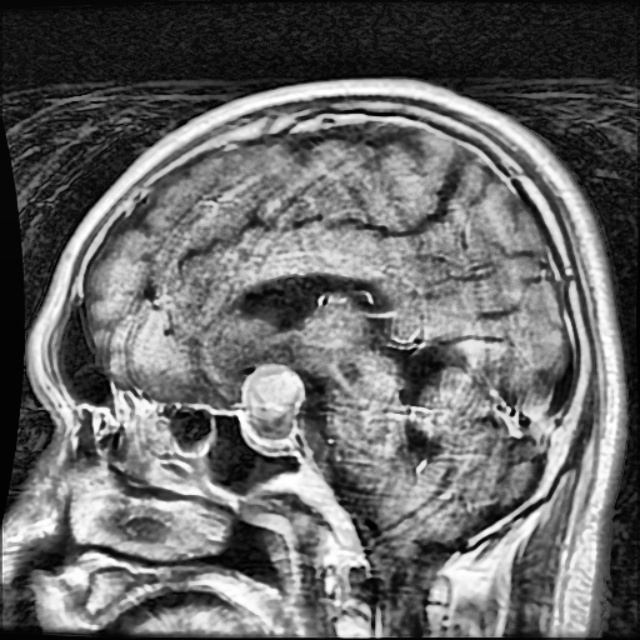Pituitary: (245, 372, 302, 423)
